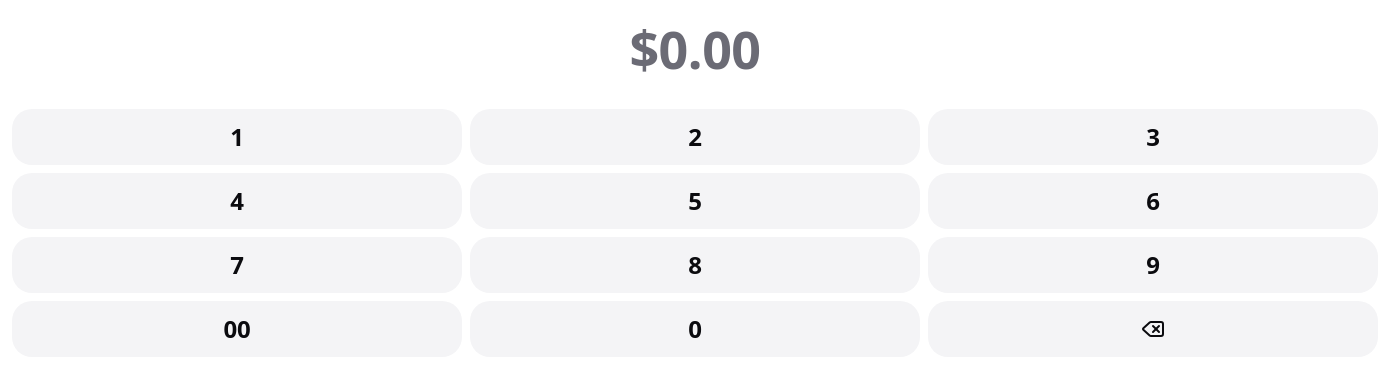
Test: AmountKeypad › botão 00 e apagar
Click the button "5" at (695, 201), box [470, 173, 920, 229]
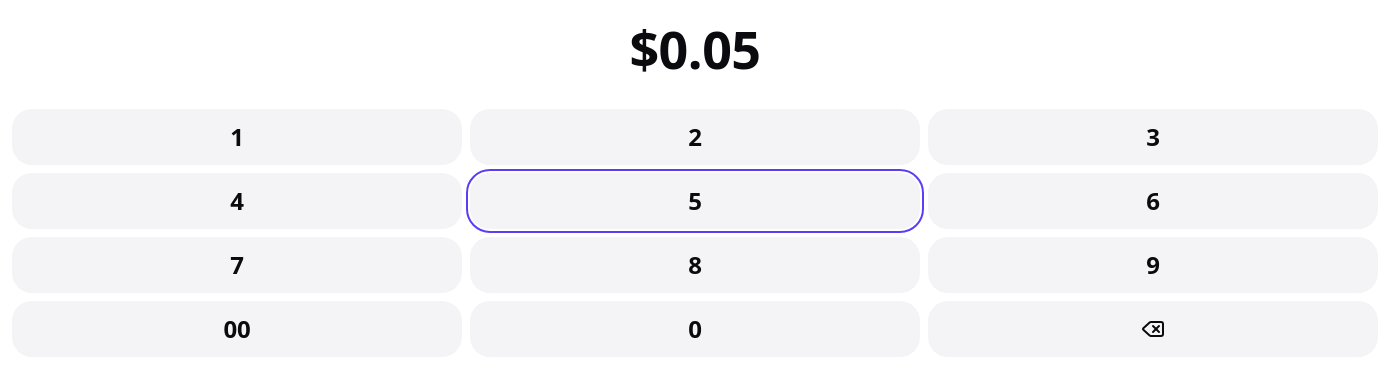
Click the button "00" at (237, 329), box [12, 301, 462, 357]
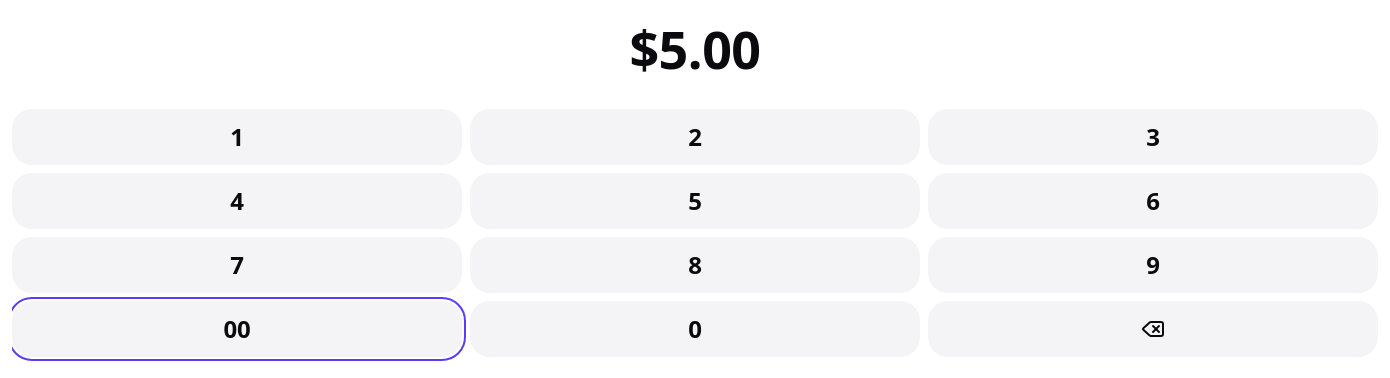
expect the field named "Amount" reads "$5.00": met, box [629, 13, 761, 84]
Click the button named "delete digit" at (1153, 329), box [928, 301, 1378, 357]
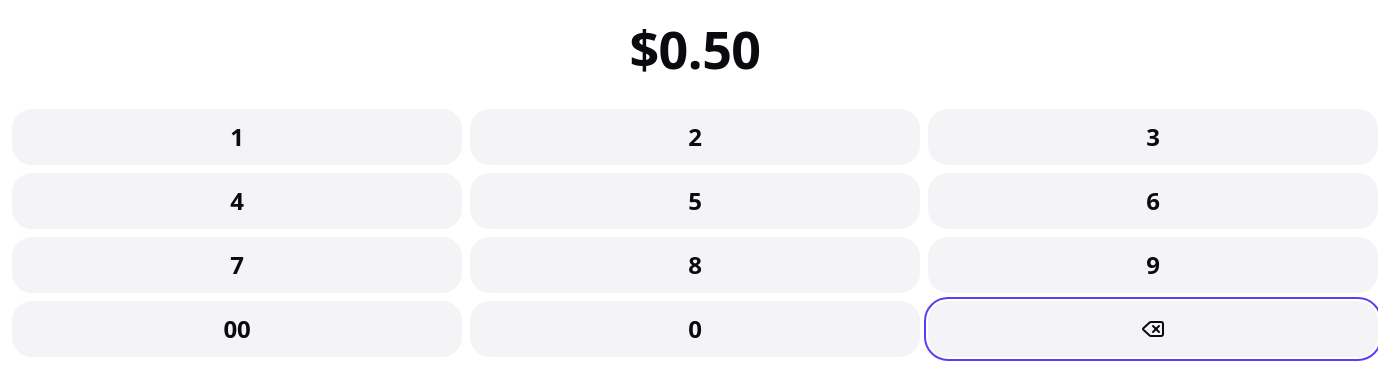
expect the field named "Amount" reads "$0.50": met, box [629, 13, 761, 84]
